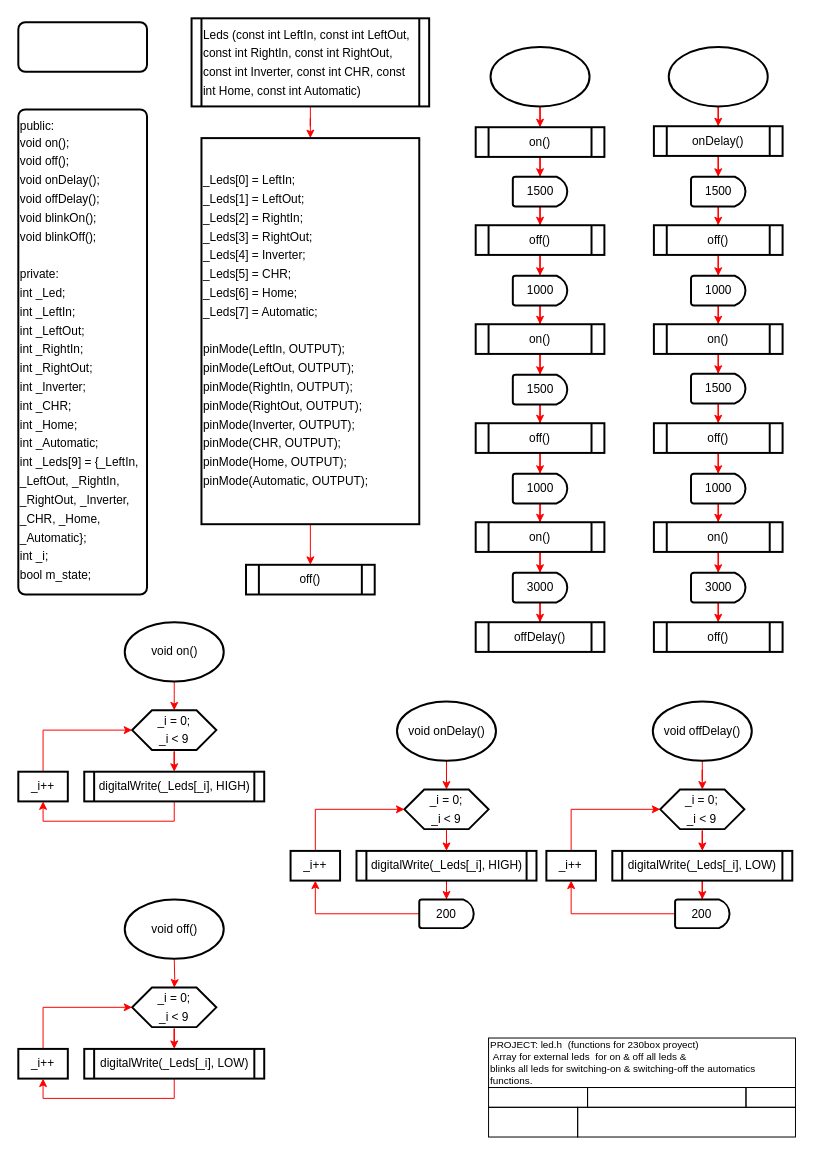
This 813x1154 diagram has some shape labels left out. Here are the shapes that lost their labels. From the top down, the centre of each, then its label:
[82,46]: #include "Arduino.h" #include "Voltmeter.h"
[539,76]: void blinkOff()
[717,76]: void blinkOn()
[538,1097]: Developer: c2mismo
[666,1097]: WEB: github.com/c2mismo/230box
[770,1097]: Page 1/1
[533,1121]: Date: 01-28-2021 Place: Málaga
[686,1121]: License: GNU GPL3 https://www.gnu.org/licenses/gpl.html
